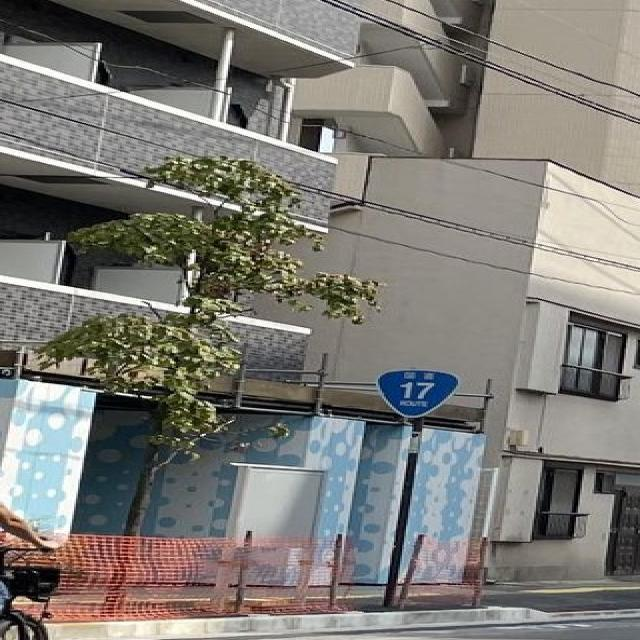dogwood: (32, 154, 389, 616)
